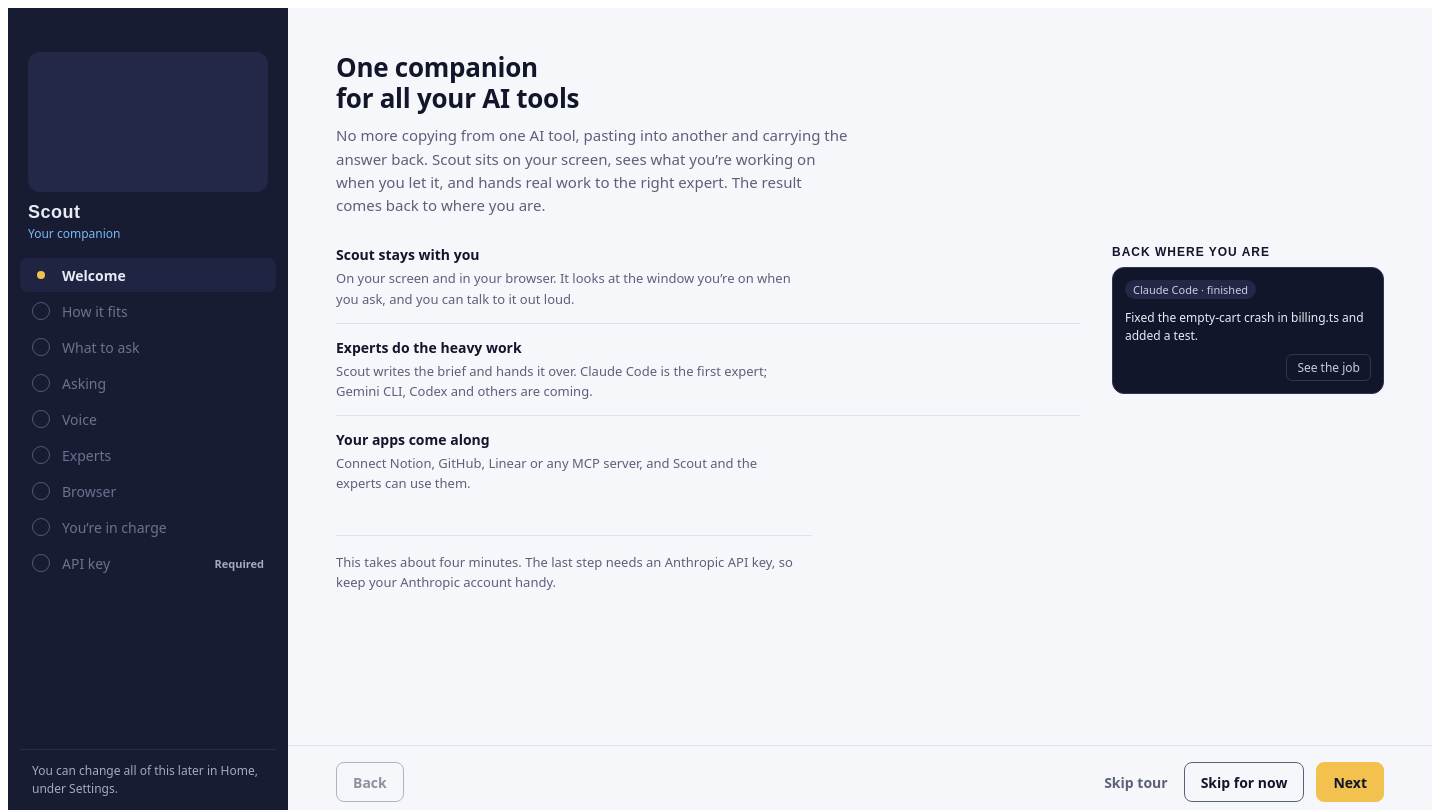
Test: Walkthrough › the side list jumps only to reached steps
What coordinates should you click on to do the following:
click the button "Next"
I would click on:
 (1350, 782)
Its box is x1=1316 y1=762 x2=1384 y2=802.
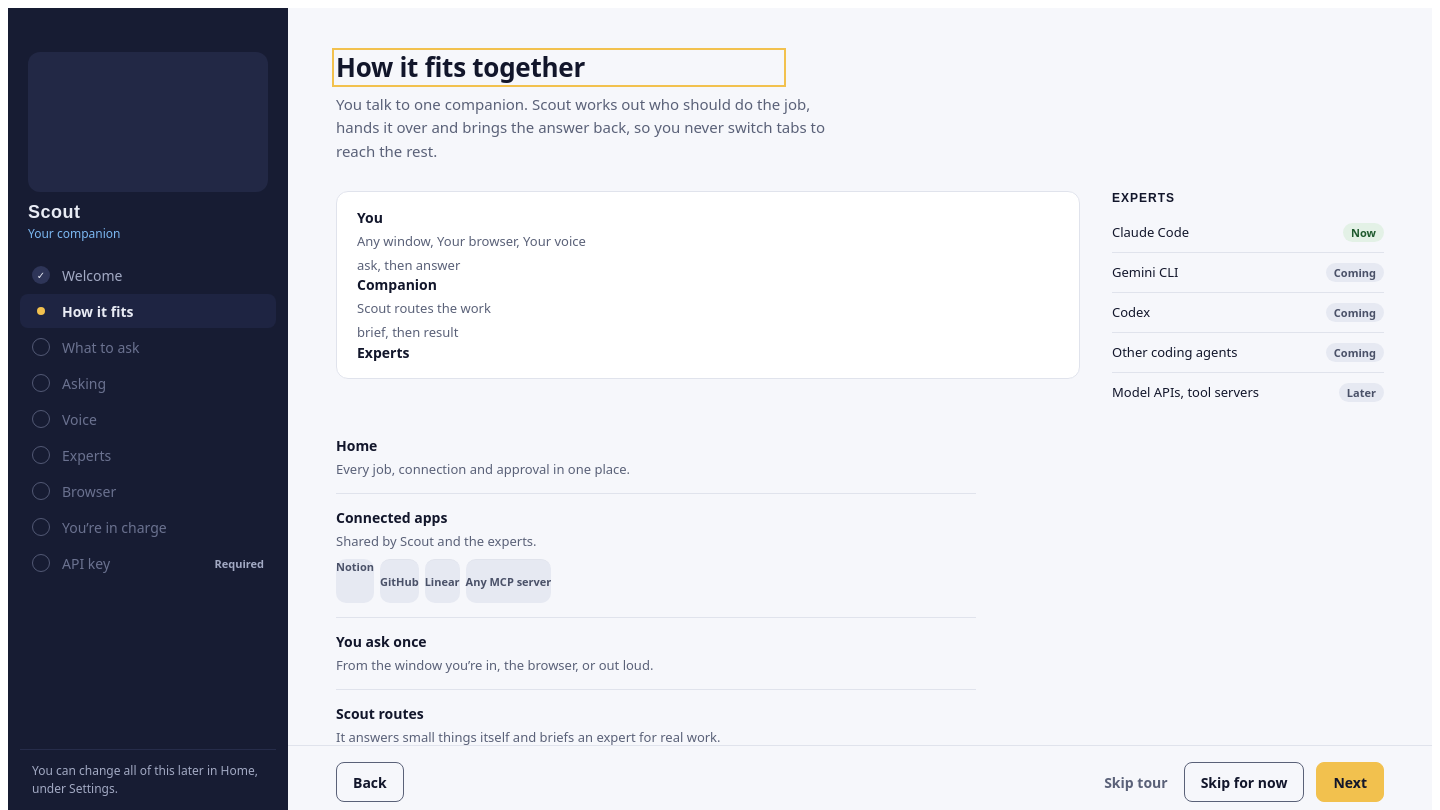
Expected: the heading "How it fits together" is shown, x1=336 y1=49 x2=585 y2=85
What coordinates should you click on to do the following:
click the button "✓ Welcome"
I would click on:
 (148, 275)
Its box is x1=20 y1=258 x2=276 y2=292.
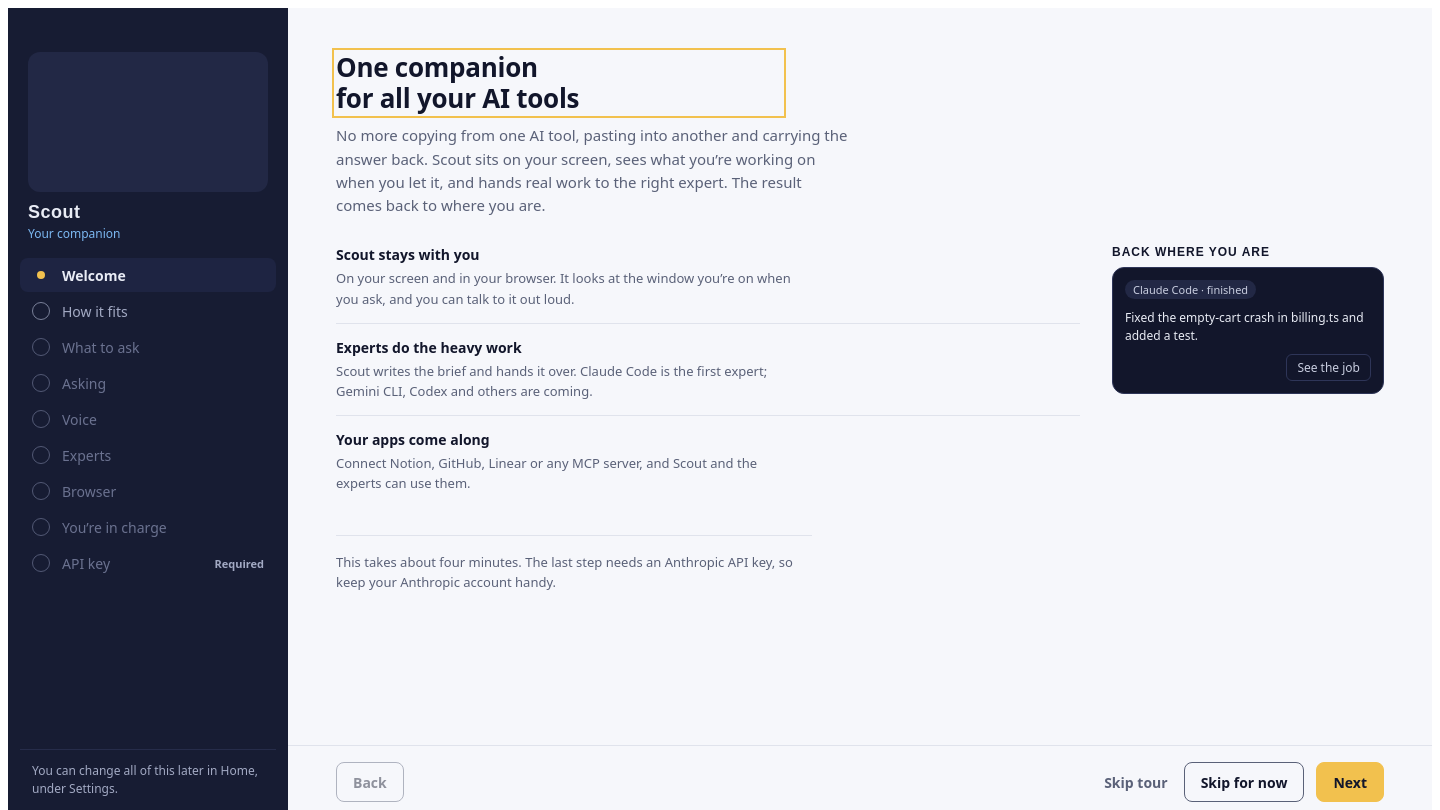
Expected: the heading "One companion for all your AI tools" is shown, x1=336 y1=49 x2=579 y2=116
